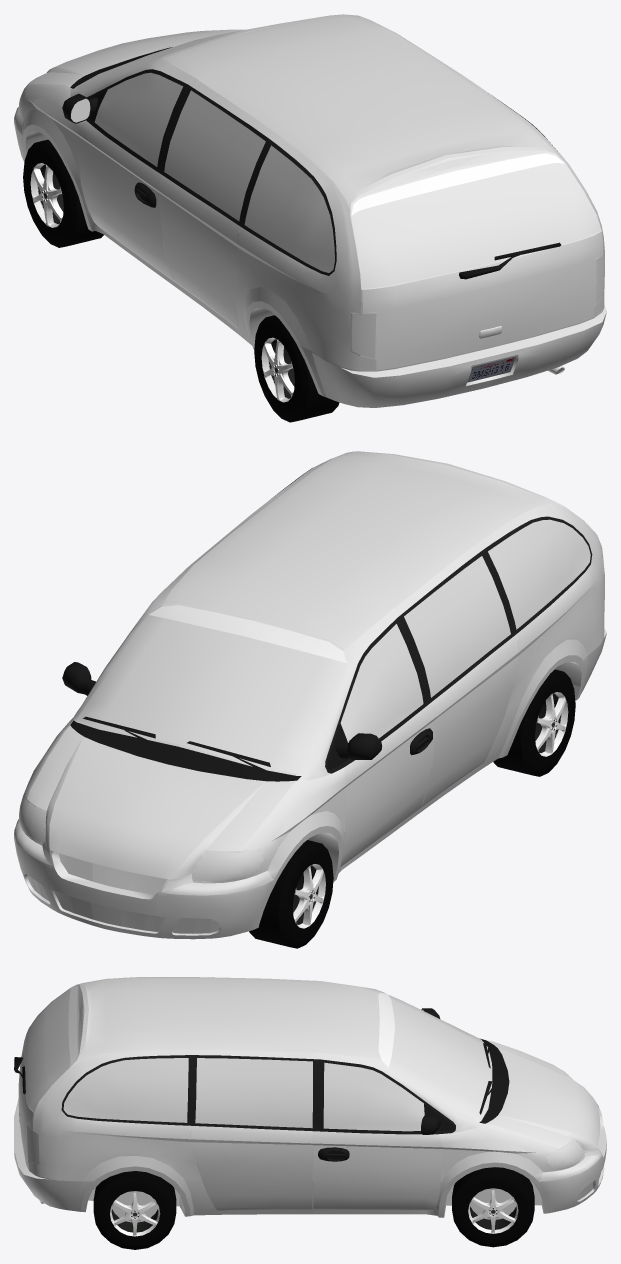
The model's file is MCLA_VA_DGE_CARAVAN_07.glb.
3 views of the same model, one above another, from view 1: azimuth 30°, elevation 25°; view 2: azimuth 150°, elevation 25°; view 3: azimuth 270°, elevation 25° (orthographic). The views are drawn at different scales.
Visible parts, largest first — view 1: va_dge_caravan_07/resources/vehicle/va_dge_caravan_07/body_l (×7); view 2: va_dge_caravan_07/resources/vehicle/va_dge_caravan_07/body_l (×7); view 3: va_dge_caravan_07/resources/vehicle/va_dge_caravan_07/body_l (×7).
Boxes of the visible parts, left/top/right/bottom form: va_dge_caravan_07/resources/vehicle/va_dge_caravan_07/body_l (×7): left=14, top=14, right=606, bottom=422; va_dge_caravan_07/resources/vehicle/va_dge_caravan_07/body_l (×7): left=14, top=451, right=606, bottom=948; va_dge_caravan_07/resources/vehicle/va_dge_caravan_07/body_l (×7): left=14, top=977, right=606, bottom=1249.
Size of the model in its own units: 2.15 by 1.68 by 4.66.
12 materials, 8 textured.
